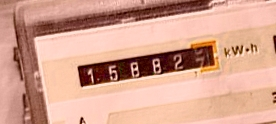1: (84, 65, 96, 84)
2: (171, 51, 184, 71)
5: (106, 63, 119, 81)
7: (194, 55, 206, 68)
8: (149, 55, 163, 75), (127, 59, 141, 78)
screen: (67, 35, 227, 96)
